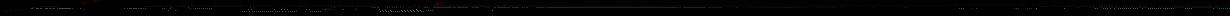Blue cone: (31, 7, 37, 8), (39, 6, 43, 7)
Yellow cone: (431, 2, 444, 6), (815, 6, 821, 8)
